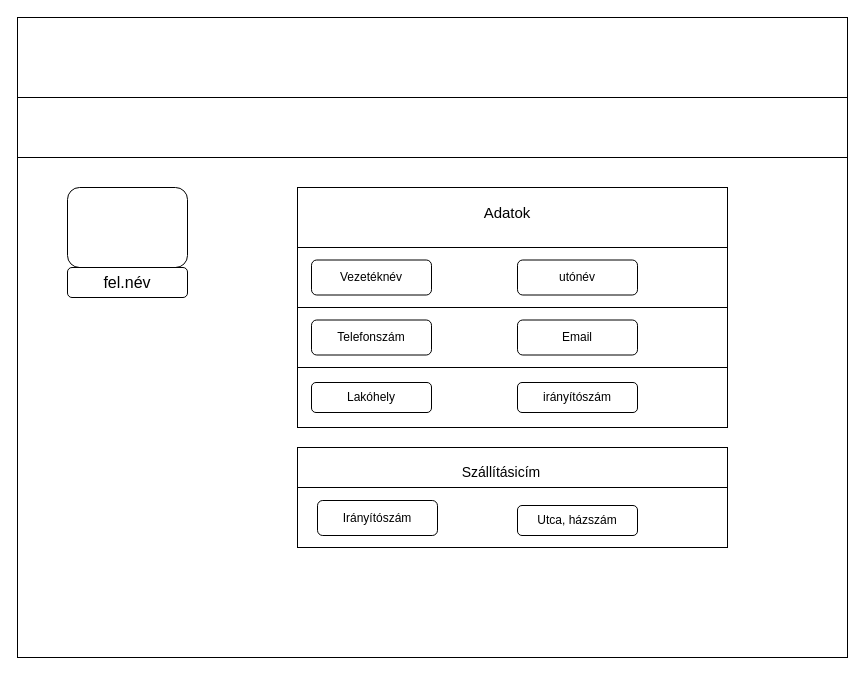
Image size: 865x675. Some labels were removed from this diagram. Here are the shapes that lost their labels. From the top down, the box of each, then its label:
(16, 16, 848, 98): Header
(16, 96, 848, 158): Navigáció
(66, 186, 188, 268): profilkep
